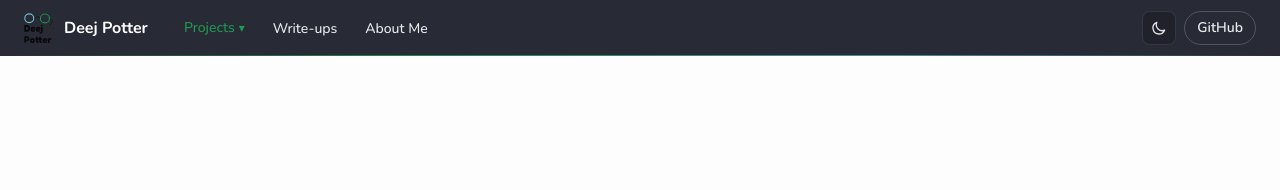
Test case: TopNavbar › closes the Projects dropdown when Escape is pressed
The width and height of the screenshot is (1280, 190).
Click the button "Projects ▾" at (214, 28), box 172,10 -> 257,46
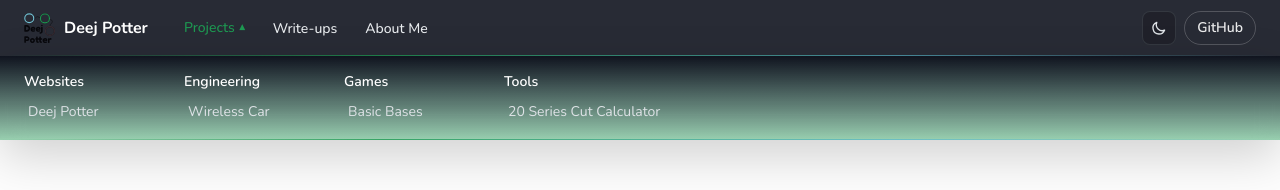
expect the element with test id "nav-projects-dropdown" is shown: met, box 0,56 -> 1279,140
Press Escape
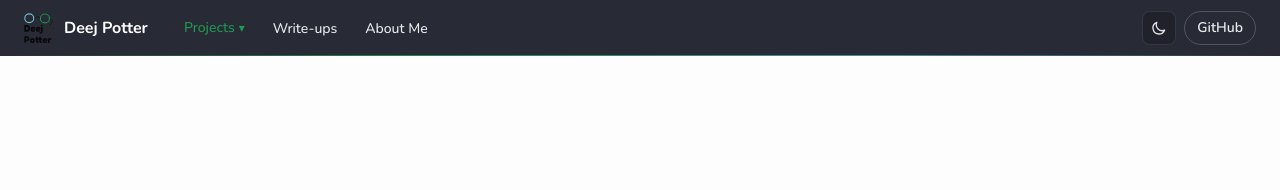
expect the element with test id "nav-projects-dropdown" is gone: met
